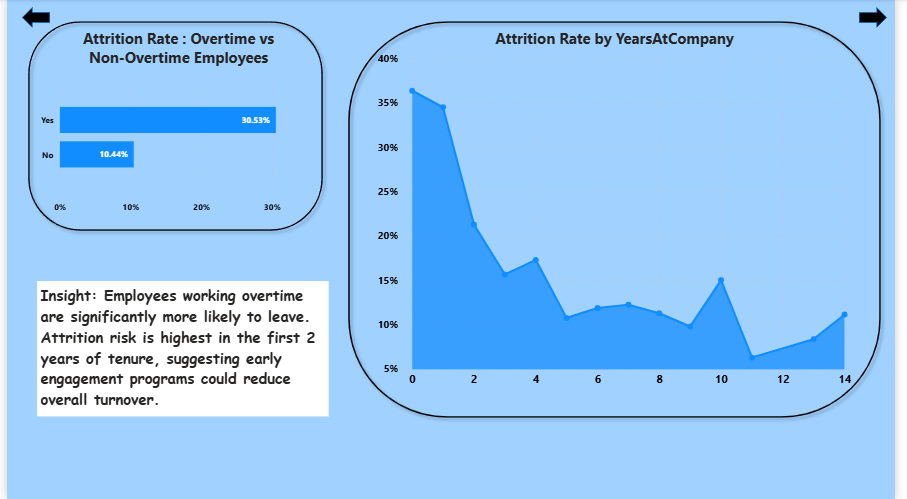

This screenshot's page, from the dashboard's own definition file:
{"tool":"powerbi","page":{"name":"Overtime and Tenure Risk","canvas":[1280,720],"ordinal":2},"visuals":[{"type":"shape","box":[21.6,23,442.1,319.7],"z":0},{"type":"shape","box":[482.4,23,784.8,589],"z":1000},{"type":"clusteredBarChart","title":"Attrition Rate : Overtime vs Non-Overtime Employees","fields":{"Category":["ibm_hr_cleaned.OverTime"],"Y":["ibm_hr_cleaned.Attrition Rate"]},"box":[43.2,41.8,407.5,276.5],"z":2000},{"type":"lineChart","fields":{"Category":["ibm_hr_cleaned.YearsAtCompany"],"Y":["ibm_hr_cleaned.Attrition Rate"]},"box":[528.5,41.8,692.6,525.6],"z":3000},{"type":"textbox","box":[43.7,406.5,419.9,194.9],"z":4000},{"type":"shape","box":[1226.9,11.5,40.3,30.2],"z":5000},{"type":"shape","box":[21.6,11.5,40.3,30.2],"z":6000}]}

Visuals, with their boxes in screenshot pixels (x1, y1, x2, y2), scaled from the page's 1280x720 canvas onto the 907x499 screenshot:
shape: x1=15 y1=16 x2=329 y2=238
shape: x1=342 y1=16 x2=898 y2=424
"Attrition Rate : Overtime vs Non-Overtime Employees" clusteredBarChart: x1=31 y1=29 x2=319 y2=221
lineChart - ibm_hr_cleaned.YearsAtCompany x ibm_hr_cleaned.Attrition Rate: x1=374 y1=29 x2=865 y2=393
textbox: x1=31 y1=282 x2=329 y2=417
shape: x1=869 y1=8 x2=898 y2=29
shape: x1=15 y1=8 x2=44 y2=29
